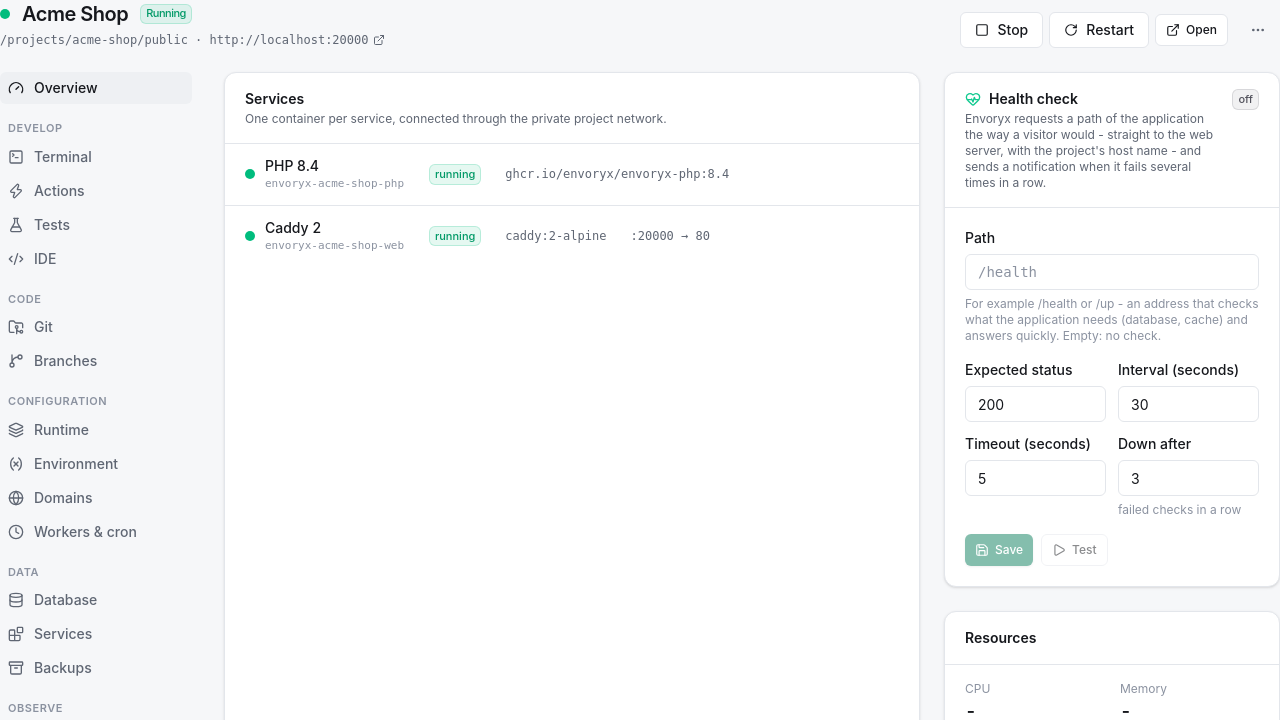
Test case: Project navigation › keeps the rarer actions in the menu and shows the Docker plan there
This screenshot has width=1280, height=720.
Click the button named "More actions" at (1258, 30), box [1236,12,1279,48]
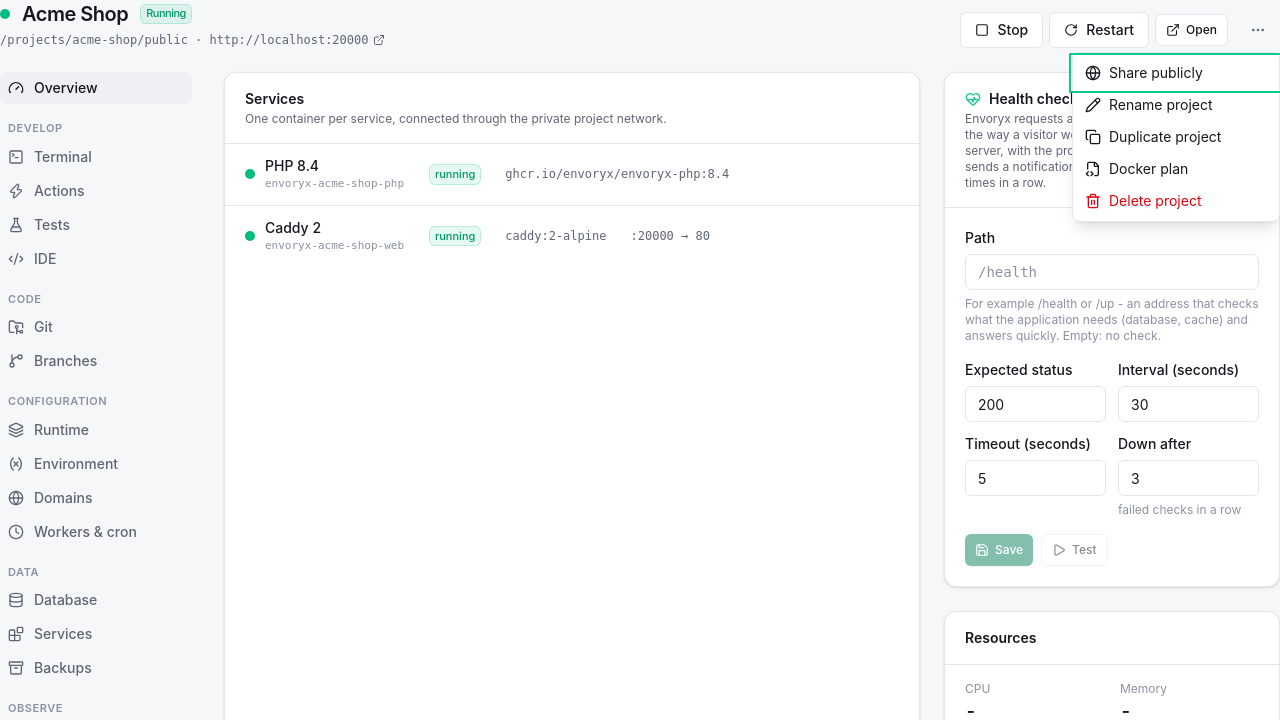
Check: the menu items read "Share publicly", "Rename project", "Duplicate project", "Docker plan", "Delete project", in this order
Click the menu item "Docker plan" at (1176, 169), box [1073,153,1279,185]
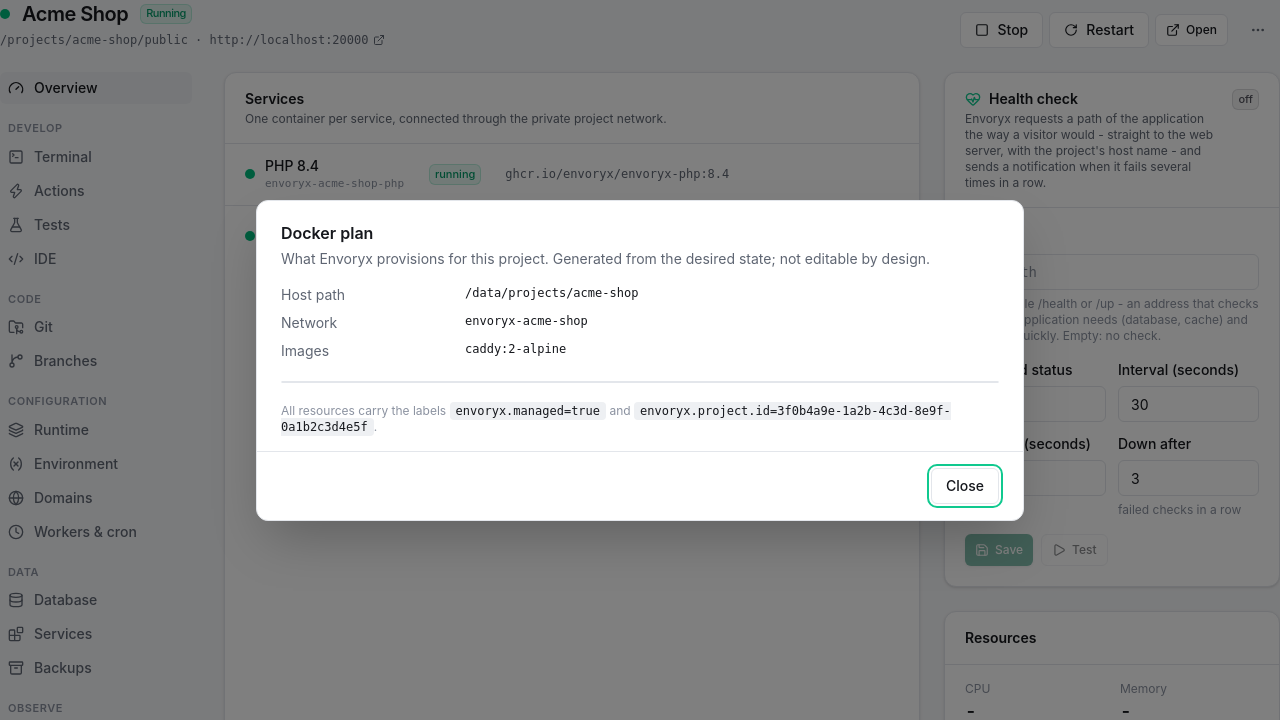
Check: the menu is gone
Check: the text "envoryx-acme-shop" is shown, box [465,314,588,328]
